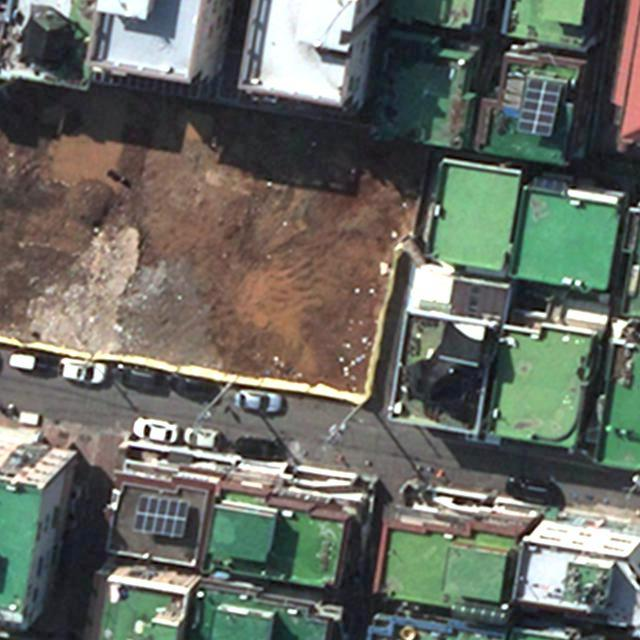solar: (513, 74, 567, 138), (131, 495, 193, 539)
